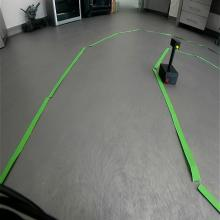green: (170, 37, 181, 51)
